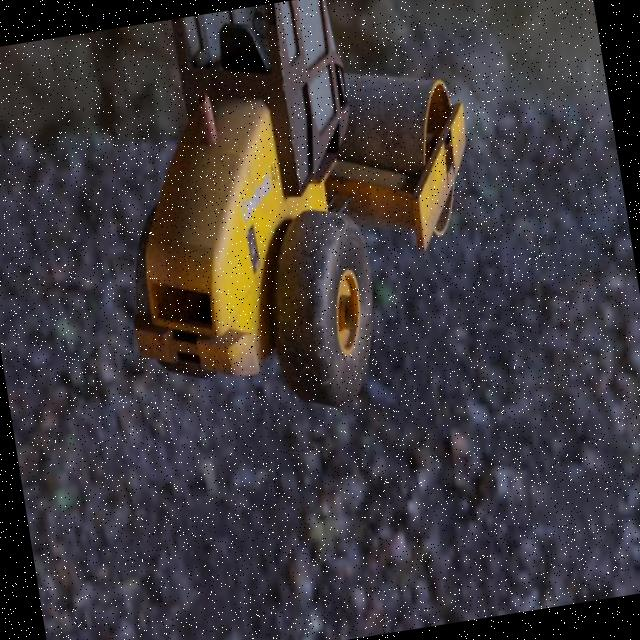Roller: (87, 0, 508, 440)
